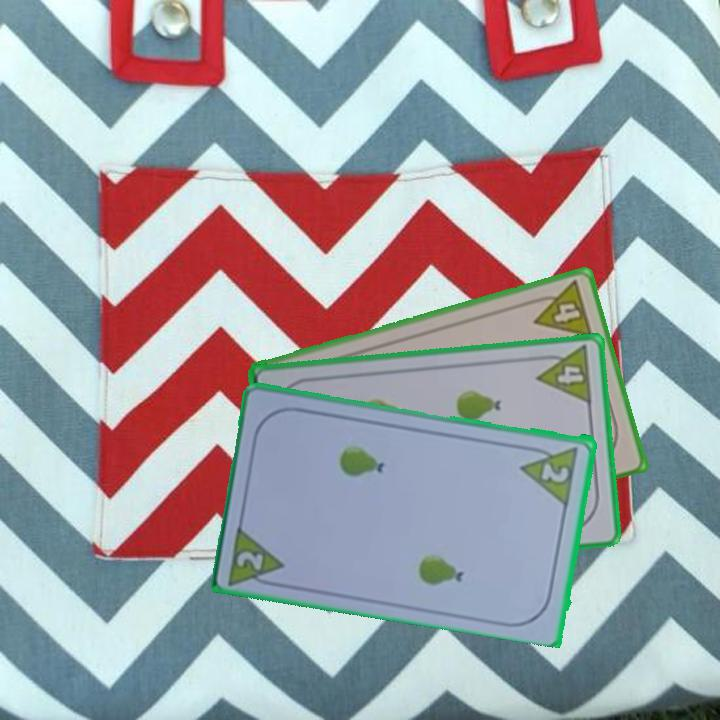2p: (225, 520, 289, 590), (518, 441, 582, 506)
4p: (525, 277, 596, 341), (532, 342, 595, 407)
